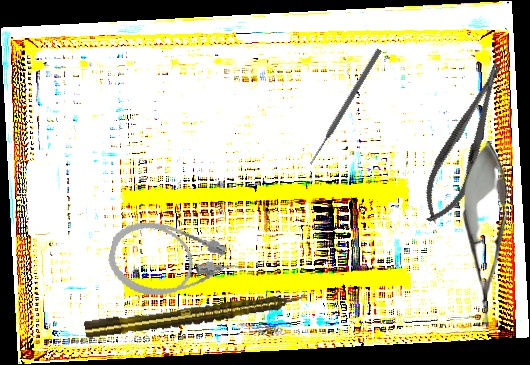Cannula: (102, 214, 248, 314)
Handpiece: (83, 288, 308, 341)
Micro Scissor: (462, 141, 509, 327)
Needle Holder: (411, 54, 520, 231)
Pusher: (307, 47, 383, 167)
